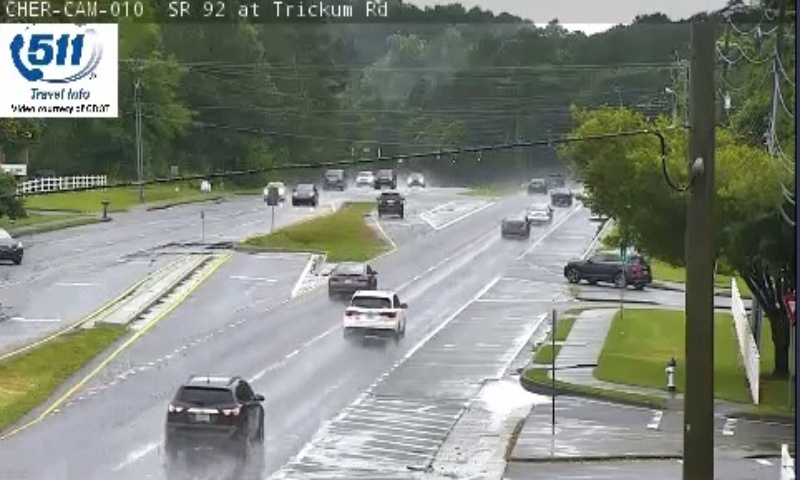car: (165, 377, 263, 449), (343, 288, 403, 335), (326, 261, 378, 297), (501, 214, 529, 238), (376, 191, 403, 214), (524, 202, 551, 221)
